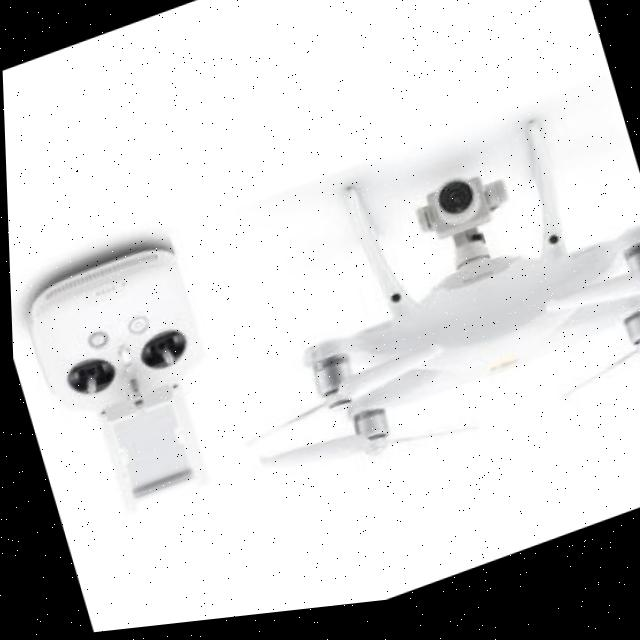drones: (152, 67, 640, 548)
